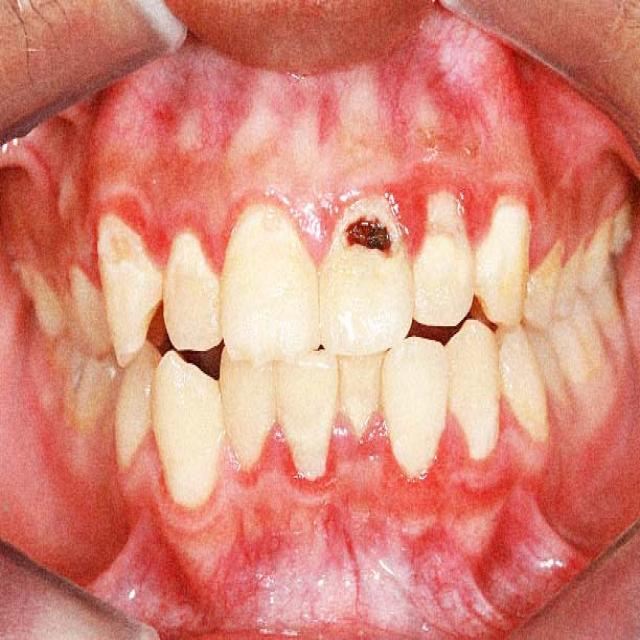caries: (339, 210, 395, 274)
